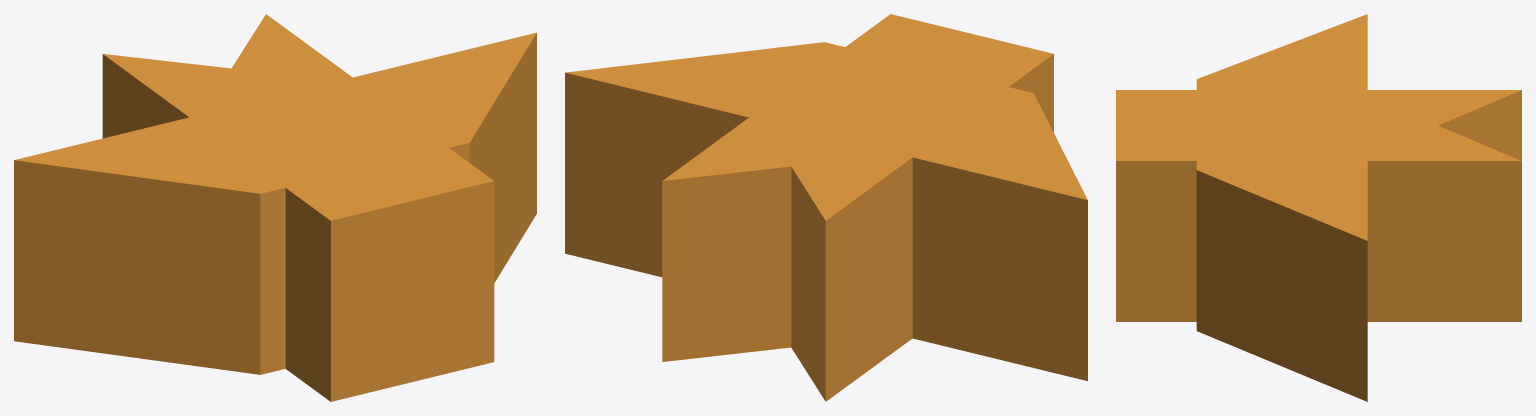
The model's file is Bassin.fbx.
The picture shows the model from 3 angles, left to right: view 1: azimuth 30°, elevation 25°; view 2: azimuth 150°, elevation 25°; view 3: azimuth 270°, elevation 25°; orthographic projection. The views are drawn at different scales.
Visible parts, largest first — view 1: Bassin, Cuisse.R, Cuisse.L; view 2: Bassin, Cuisse.R, Cuisse.L; view 3: Bassin, Cuisse.R, Cuisse.L.
Part boxes in pixels (x1=…): Bassin: x1=14, y1=32, x2=536, y2=374; Cuisse.R: x1=102, y1=54, x2=494, y2=401; Cuisse.L: x1=218, y1=14, x2=494, y2=401; Bassin: x1=565, y1=42, x2=1087, y2=380; Cuisse.R: x1=774, y1=14, x2=1053, y2=401; Cuisse.L: x1=662, y1=14, x2=1053, y2=361; Bassin: x1=1196, y1=14, x2=1367, y2=401; Cuisse.R: x1=1116, y1=90, x2=1521, y2=321; Cuisse.L: x1=1116, y1=91, x2=1521, y2=321.
Bounding box in the file's own units: 160 × 52.94 × 121.
